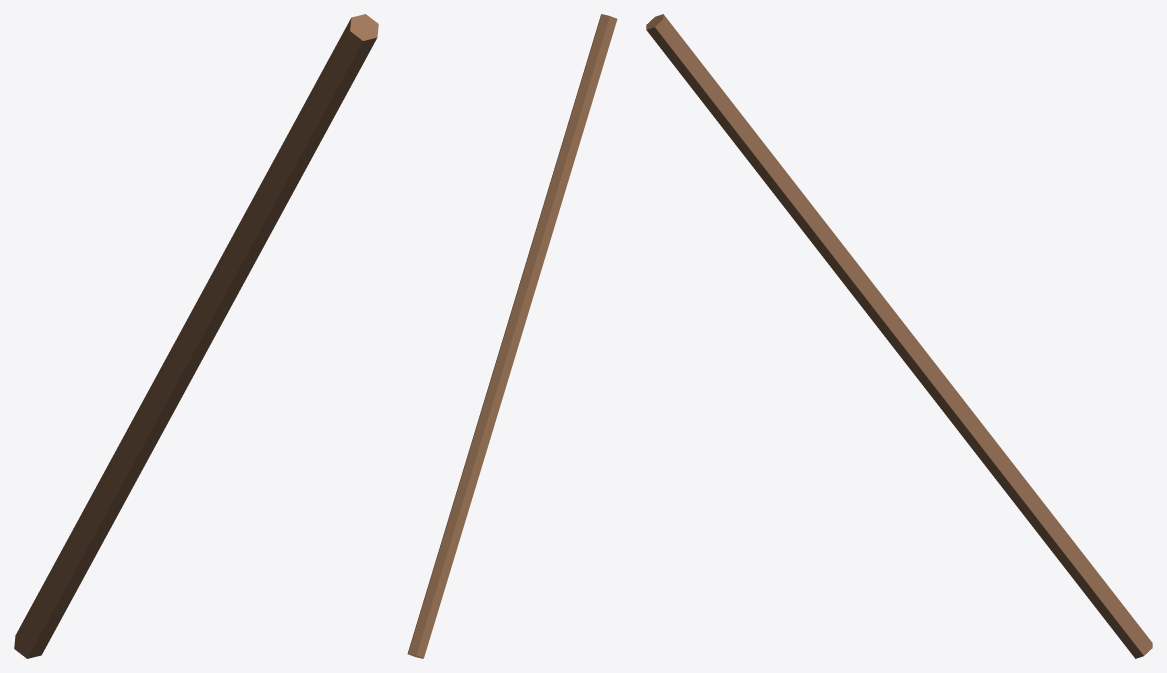
Rendered from Candlestick_Stem_B.fbx.
3 renders of one model, left to right at view 1: azimuth 30°, elevation 25°; view 2: azimuth 150°, elevation 25°; view 3: azimuth 270°, elevation 25°, orthographic. The views are drawn at different scales.
Parts seen in each view (by area): view 1: Candlestick_Stem_B; view 2: Candlestick_Stem_B; view 3: Candlestick_Stem_B.
Part boxes in pixels (bbox=[...]): Candlestick_Stem_B: bbox=[14, 14, 378, 658]; Candlestick_Stem_B: bbox=[407, 14, 617, 658]; Candlestick_Stem_B: bbox=[646, 14, 1152, 658].
Bounding box in the file's own units: 2.41 × 70.38 × 50.47.
